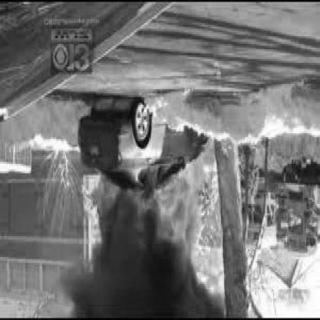Fire: (80, 136, 218, 268)
